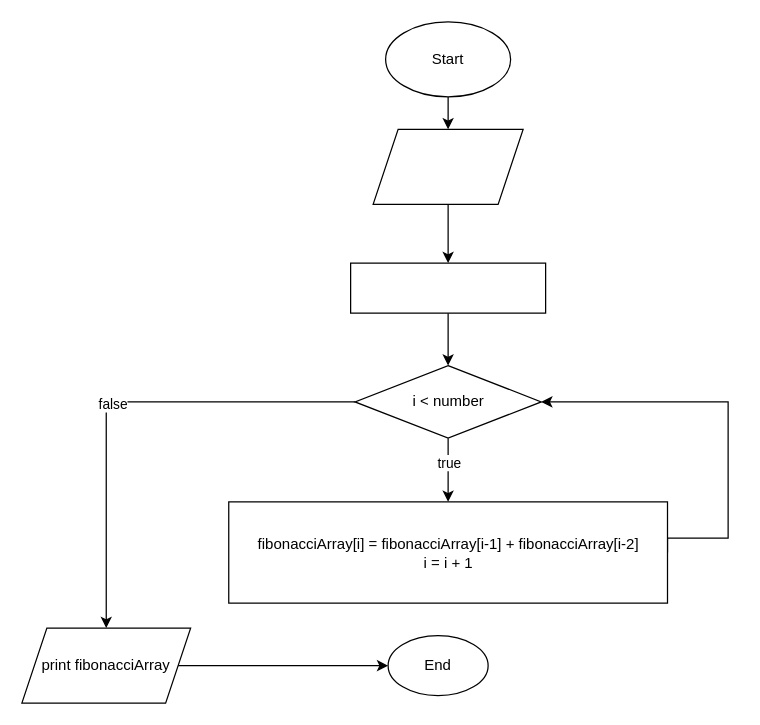
This 760x725 diagram has some shape labels left out. The shapes that lost their labels are listed below. From the top down, each one's box as (x1, y1, x2, y2) in pixels, then its label:
(372, 128, 523, 204): number
(349, 262, 546, 313): fibonacciArray = [0,1] i = 2
